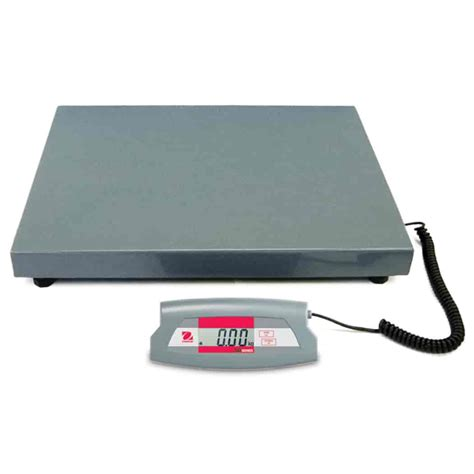Industrial Scale: (7, 104, 466, 369)
